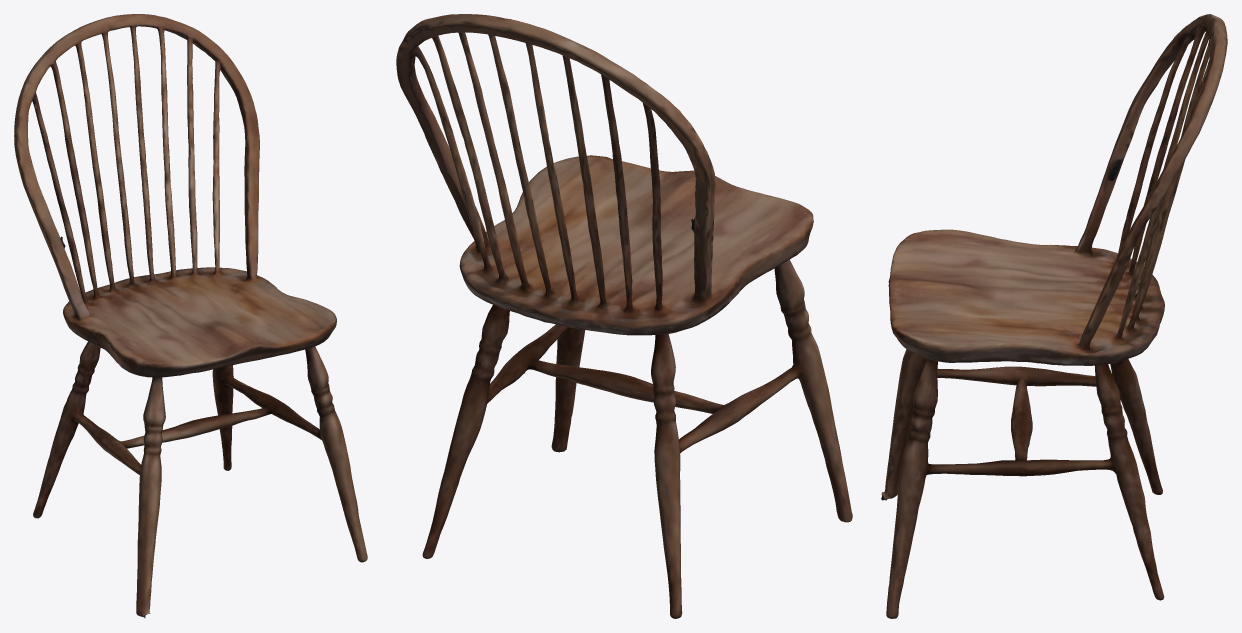
The picture shows the model from 3 angles, left to right: view 1: azimuth 30°, elevation 25°; view 2: azimuth 150°, elevation 25°; view 3: azimuth 270°, elevation 25°; orthographic projection. The views are drawn at different scales.
Visible parts, largest first — view 1: Mesh_0; view 2: Mesh_0; view 3: Mesh_0.
Part boxes in pixels (box(x1,y1,x2,y2)): Mesh_0: box(14, 14, 367, 618); Mesh_0: box(396, 14, 852, 618); Mesh_0: box(881, 14, 1227, 618).
Size of the model in its own units: 0.4634 by 0.88 by 0.5244.
Materials: 1 (1 with a texture image).
